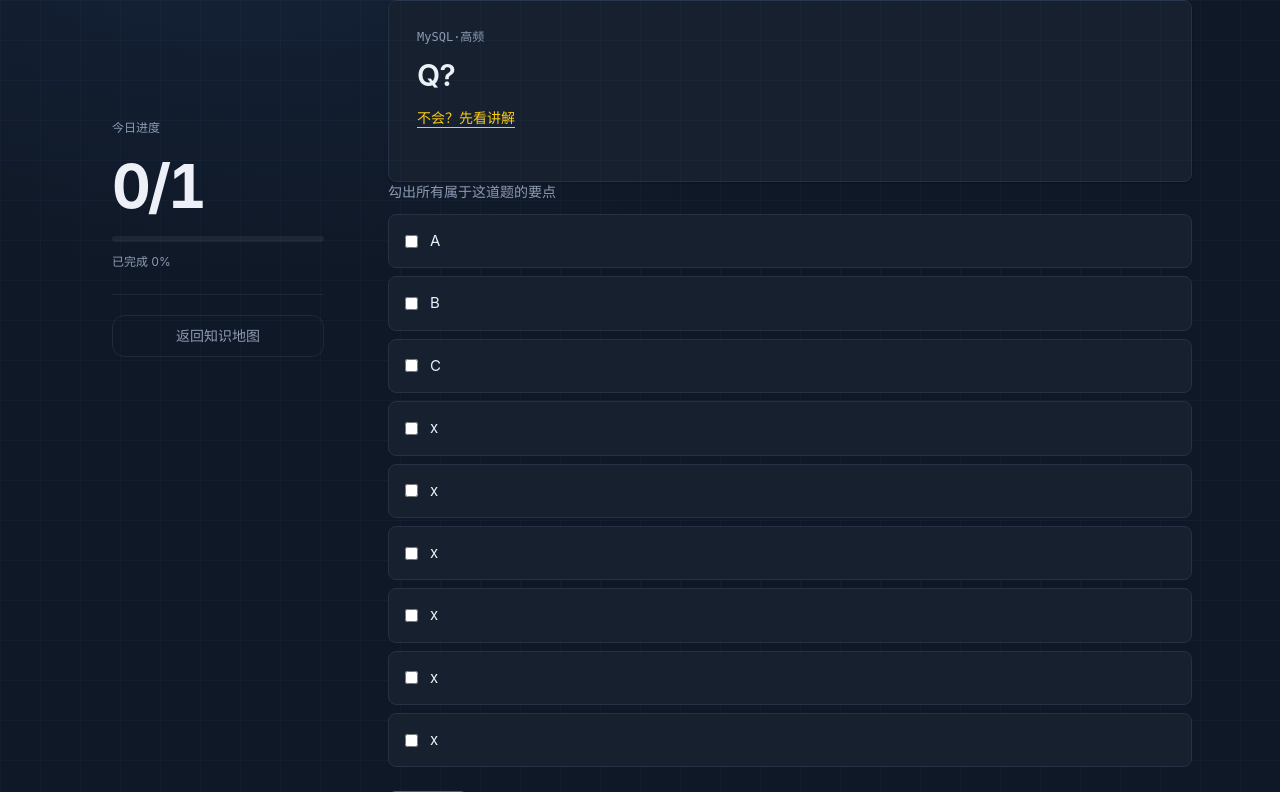
Test: 答对一张：屏①→提交→屏②显示得分与进度推进
Expected: the text "0/1" is shown, [112,156,204,216]
What coordinates should you click on to do the following:
click the checkbox labelled "A"
I would click on:
 (412, 241)
Its box is [405,235,418,248].
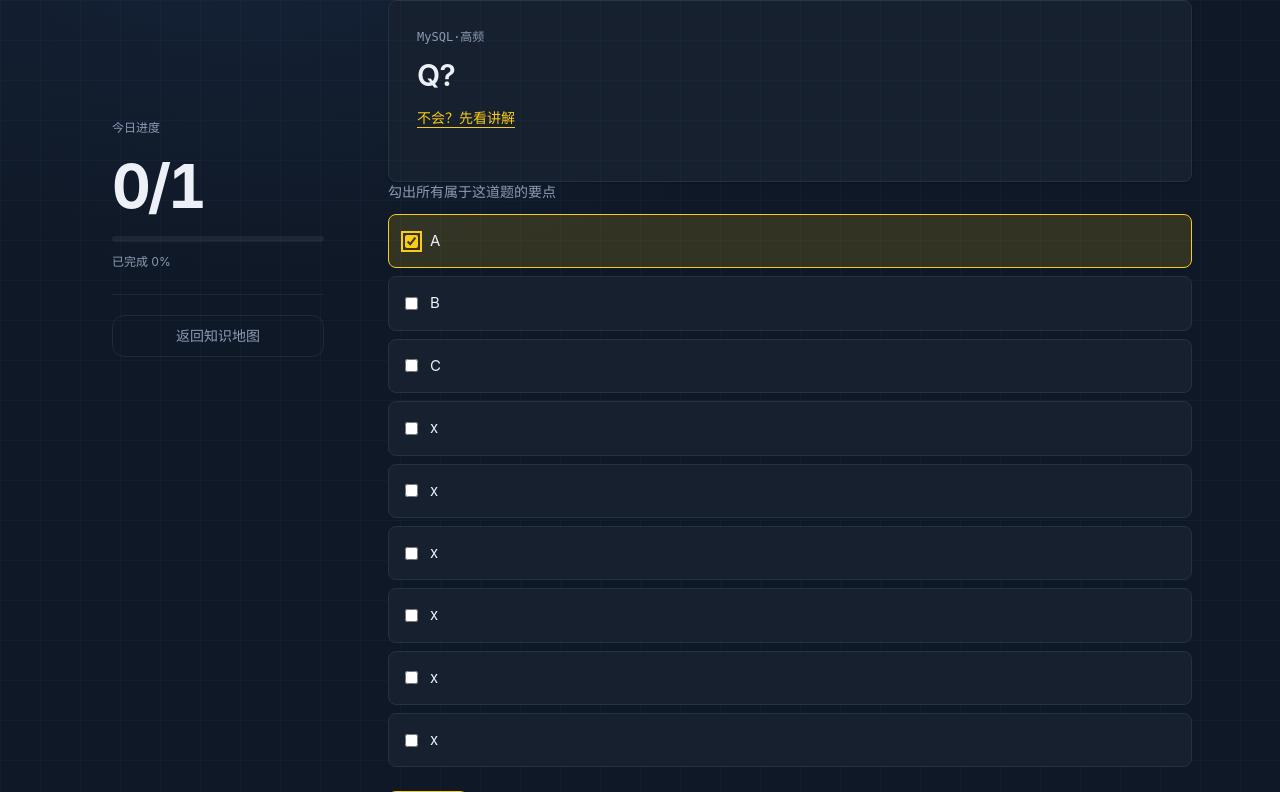
What coordinates should you click on to do the following:
click the checkbox labelled "B"
I would click on:
 (412, 304)
Its box is [405,297,418,310].
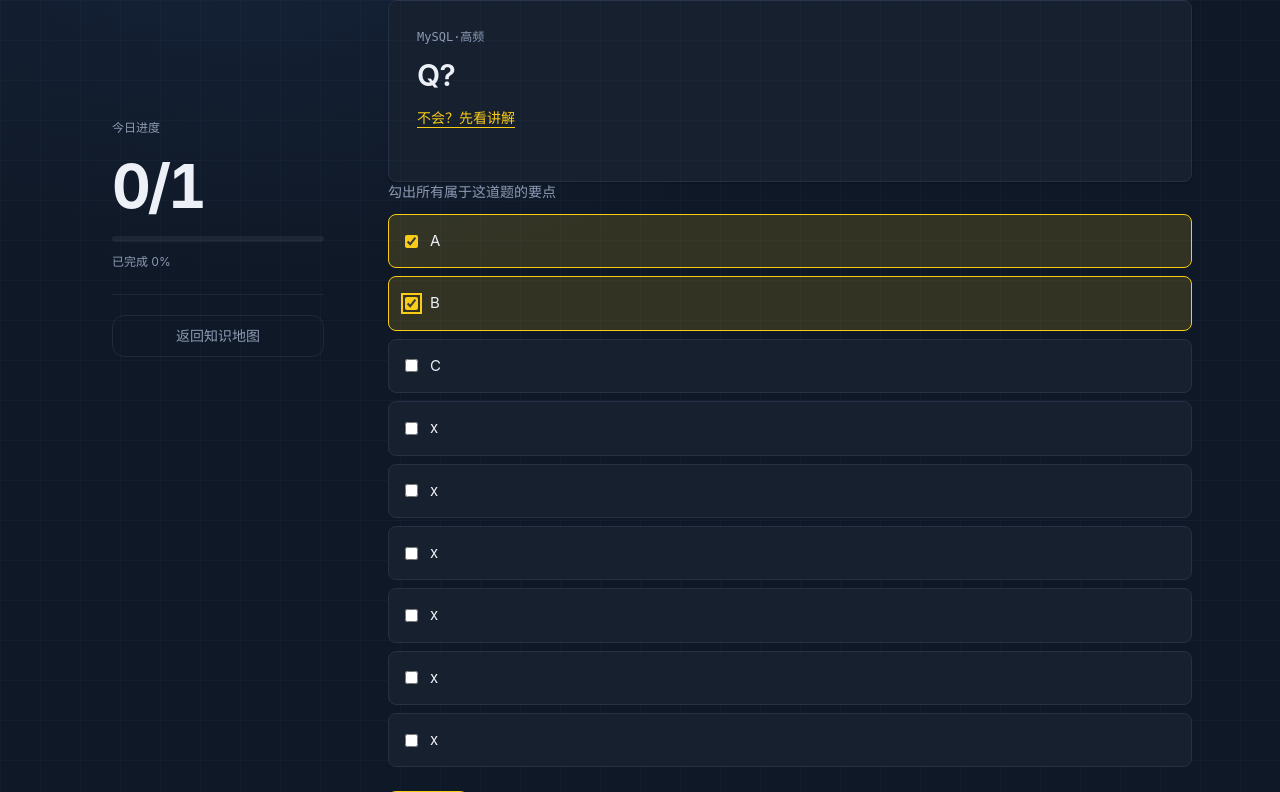
What coordinates should you click on to do the following:
click the checkbox labelled "C"
I would click on:
 (412, 366)
Its box is [405,359,418,372].
(page scrolled)
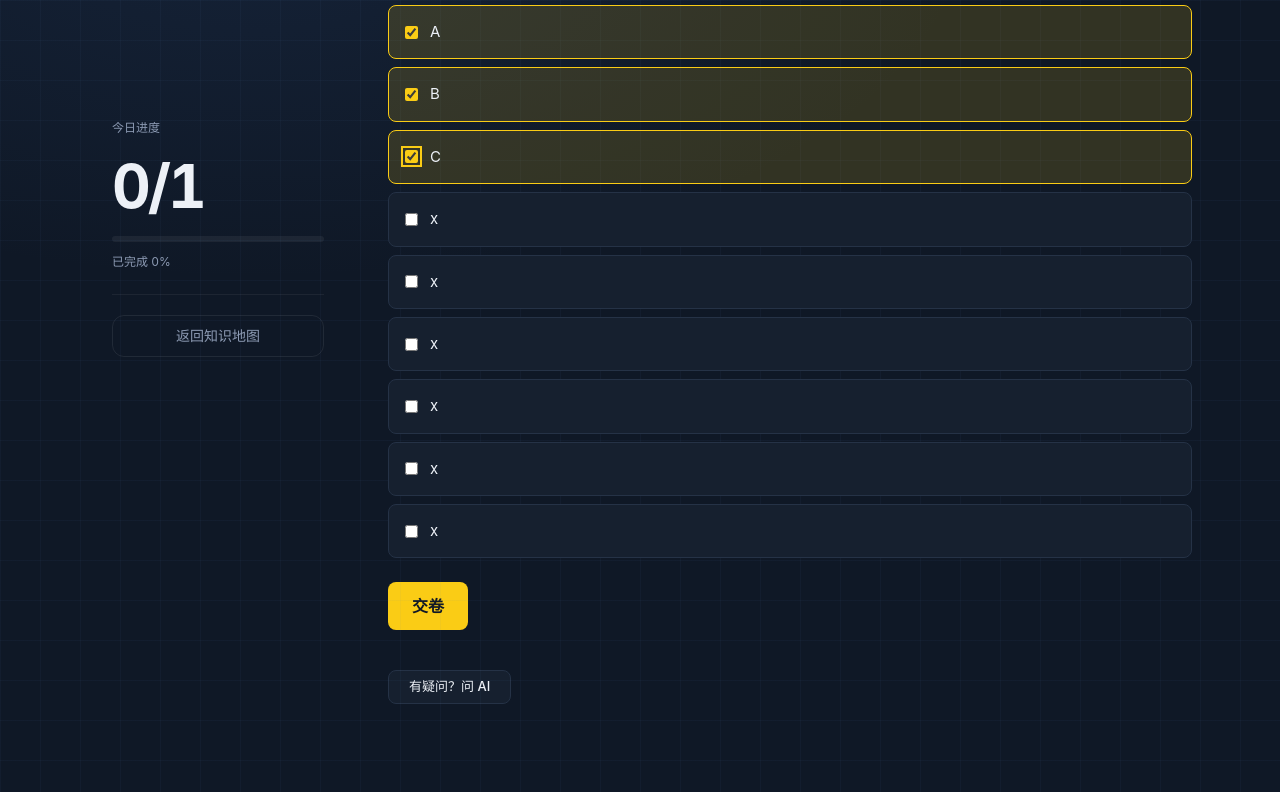
What coordinates should you click on to do the following:
click the button "交卷"
I would click on:
 (428, 606)
Its box is [388,582,468,630].
(page scrolled)
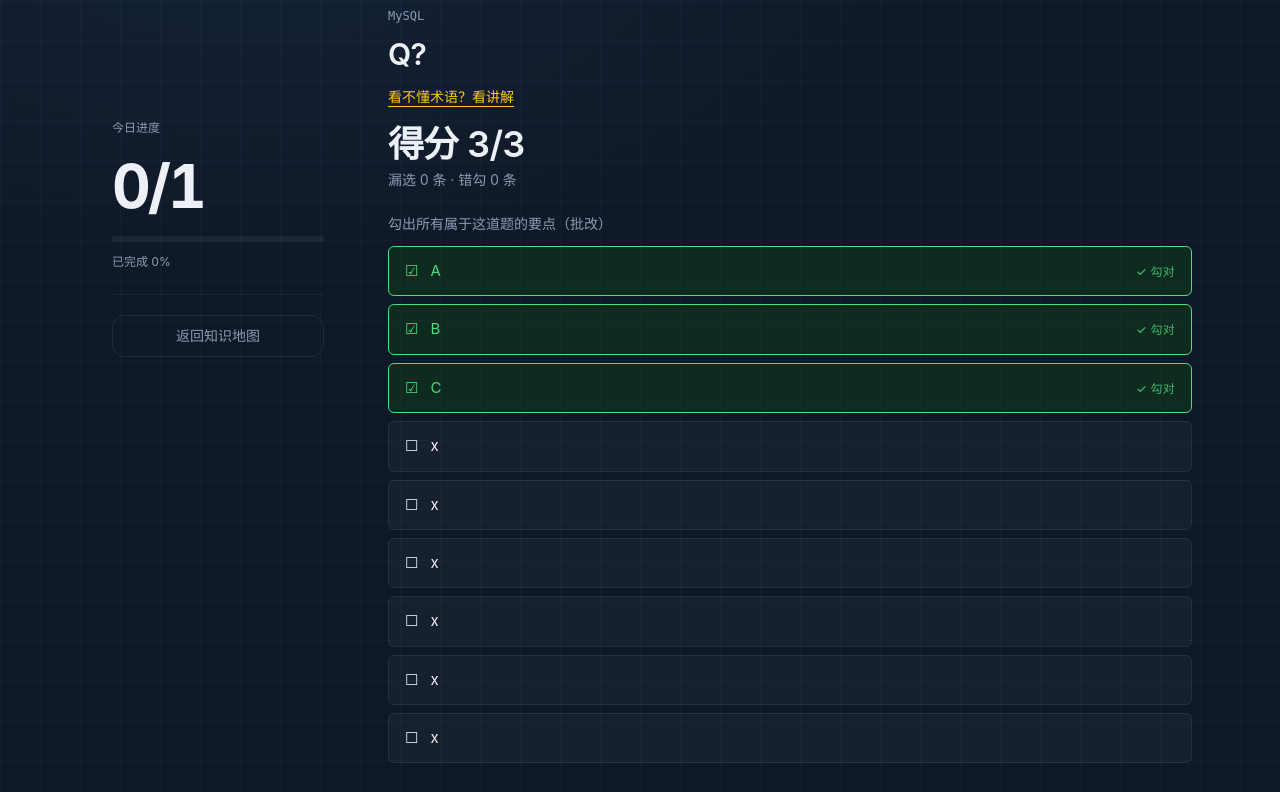
Now the text "得分 3/3" is shown, box [388,122,524,166]
